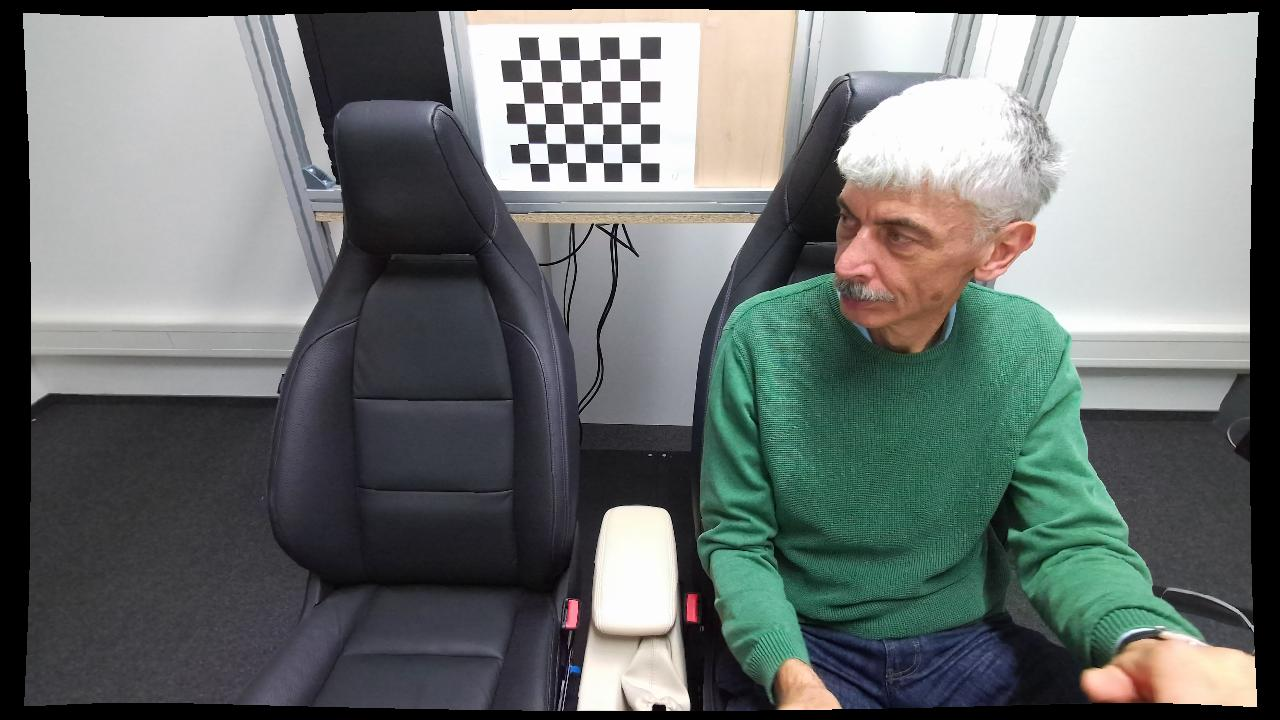Distracted: (699, 73, 1172, 713)
